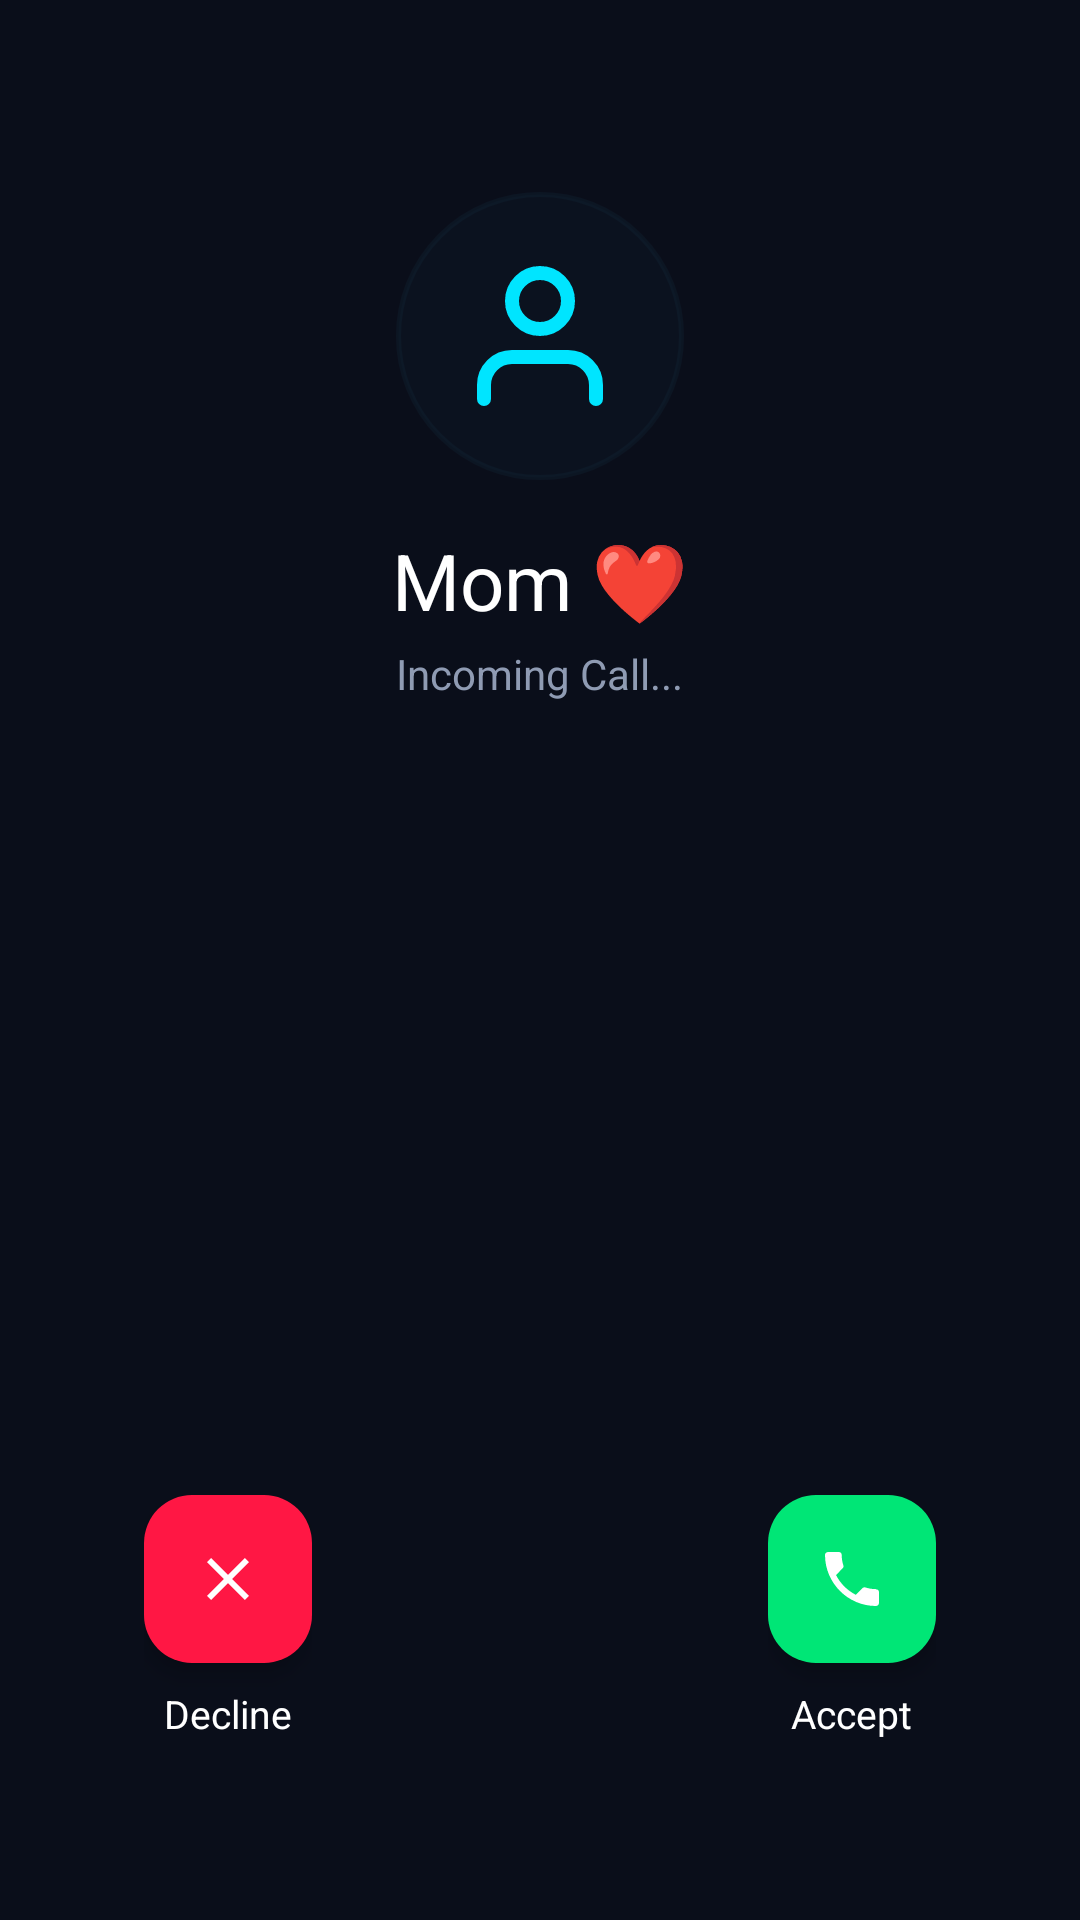

Named icons in this screenshot (1080x1920) and their bounding boxes, (x1, y1, x2, y2):
call: (768, 1495, 936, 1663)
cancel neon: (144, 1495, 312, 1663)
profile: (477, 266, 603, 406)
